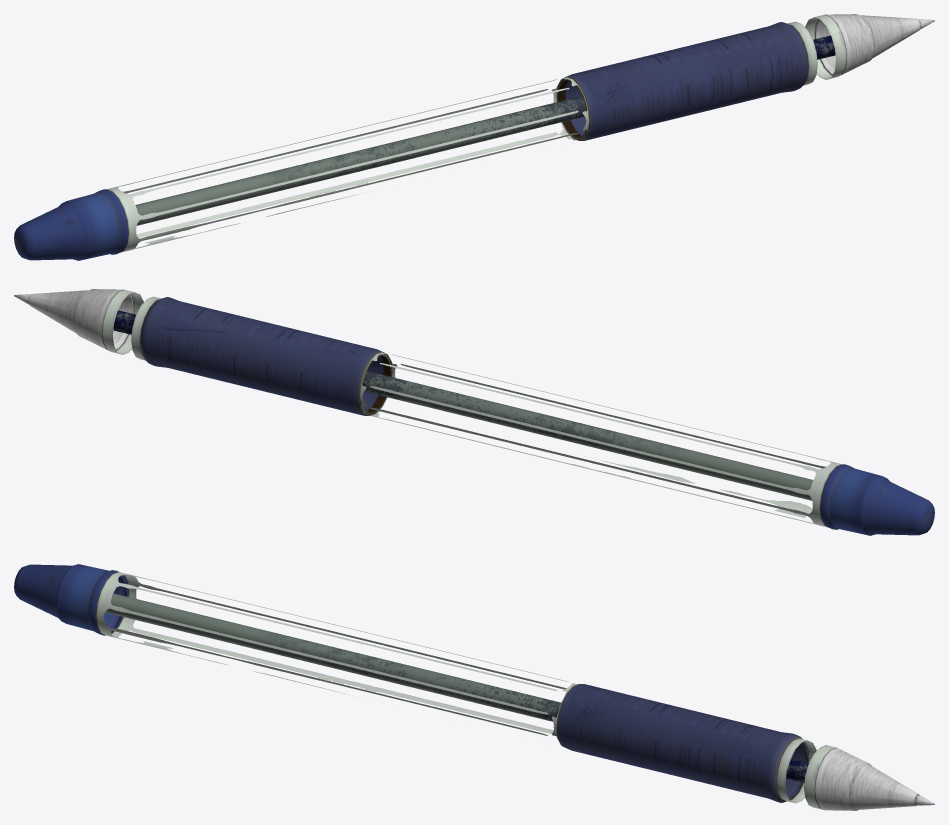
File: PEN.fbx
The picture shows the model from 3 angles, top to bottom: view 1: azimuth 30°, elevation 25°; view 2: azimuth 150°, elevation 25°; view 3: azimuth 330°, elevation 25°; orthographic projection.
Parts seen in each view (by area): view 1: Pen; view 2: Pen; view 3: Pen.
Boxes of the visible parts, <box> form: Pen: <box>14,14,934,260</box>; Pen: <box>14,289,934,535</box>; Pen: <box>14,564,934,810</box>.
Bounding box in the file's own units: 14.34 × 0.958 × 0.958.
Materials: 1 (1 with a texture image).
